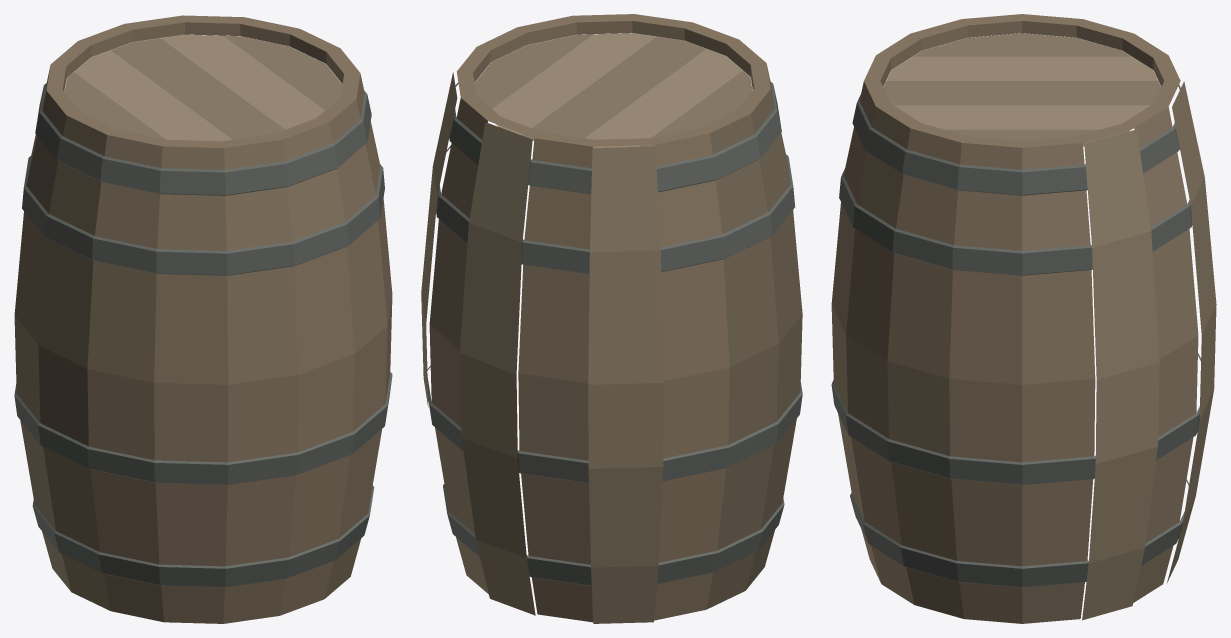
Rendered from env_barrel_v05_replacement_staves.glb.
3 renders of one model, left to right at view 1: azimuth 30°, elevation 25°; view 2: azimuth 150°, elevation 25°; view 3: azimuth 270°, elevation 25°, orthographic.
Parts seen in each view (by area): view 1: material_0, material_3, material_2, material_5, material_4; view 2: material_6, material_0, material_2, material_5, material_3, material_4; view 3: material_0, material_5, material_6, material_3, material_4.
Boxes of the visible parts, left/top/right/bottom form: material_0: left=27, top=15, right=392, bottom=623; material_3: left=14, top=83, right=392, bottom=587; material_2: left=14, top=91, right=110, bottom=610; material_5: left=64, top=35, right=342, bottom=139; material_4: left=74, top=34, right=324, bottom=141; material_6: left=421, top=72, right=663, bottom=623; material_0: left=456, top=14, right=790, bottom=622; material_2: left=706, top=89, right=802, bottom=609; material_5: left=429, top=34, right=752, bottom=594; material_3: left=427, top=82, right=802, bottom=585; material_4: left=492, top=33, right=742, bottom=147; material_0: left=831, top=14, right=1180, bottom=623; material_5: left=883, top=33, right=1198, bottom=623; material_6: left=1082, top=81, right=1216, bottom=620; material_3: left=831, top=84, right=1200, bottom=587; material_4: left=886, top=56, right=1157, bottom=129.
Size of the model in its own units: 0.6505 by 0.9 by 0.6562.
